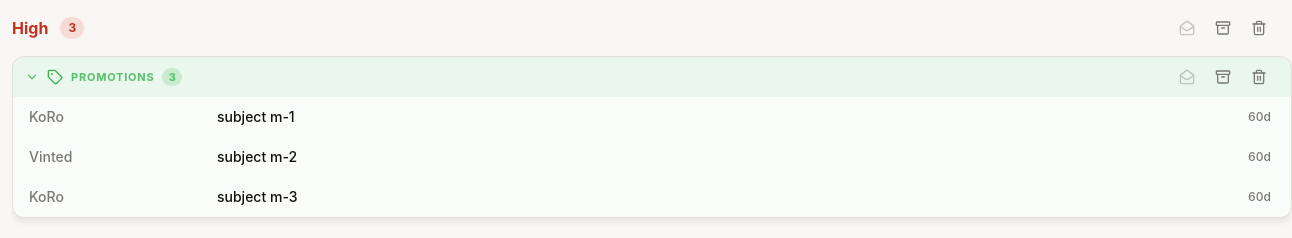
Test: collapsing a category › previews its senders on one line, each named once (req. 7)
The image size is (1292, 238).
Click the button with aria-label "Collapse Promotions". click: (113, 77)
box: top-left (25, 68), bottom-right (1161, 86)
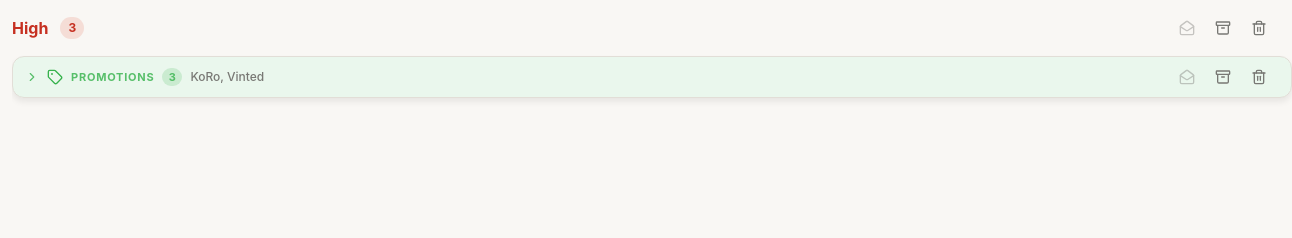
Now the text "KoRo, Vinted" is shown, box top-left (190, 69), bottom-right (264, 84)
